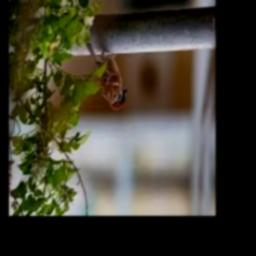Sparrow: (86, 43, 127, 111)
